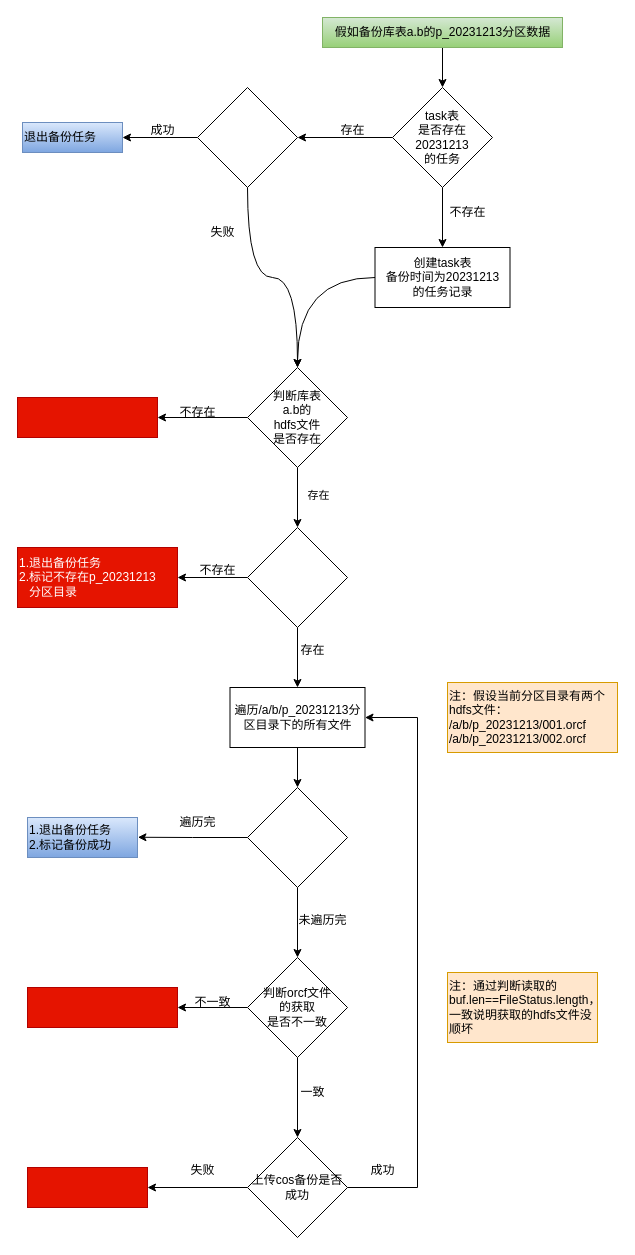
Image size: 635x1255. Some labels were removed from this diagram. The centre of each missing label's shape, as x and y in pixels:
1.退出备份任务 2.标记上传cos失败: the point at 87,1187
1.退出备份任务 2.标记不存在hdfs文件: the point at 87,417
1.退出备份任务 2.标记读取hdfs文件失败: the point at 102,1007
判断存在 /a/b/p_20231213 的分区目录: the point at 297,577
备份任务 是否成功: the point at 247,137
是否遍历完: the point at 297,837
